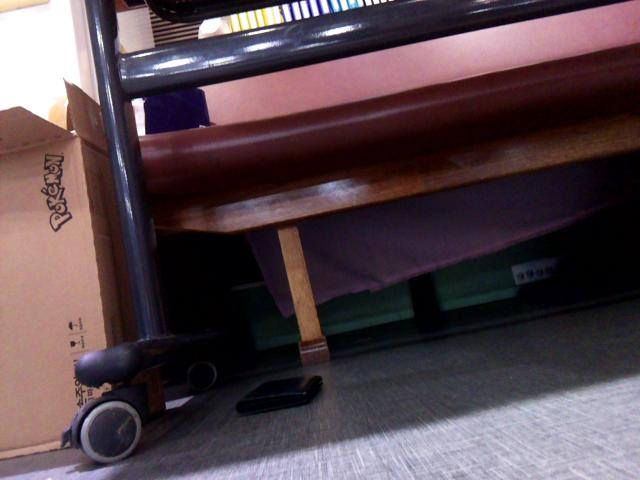wallet: (233, 368, 331, 420)
